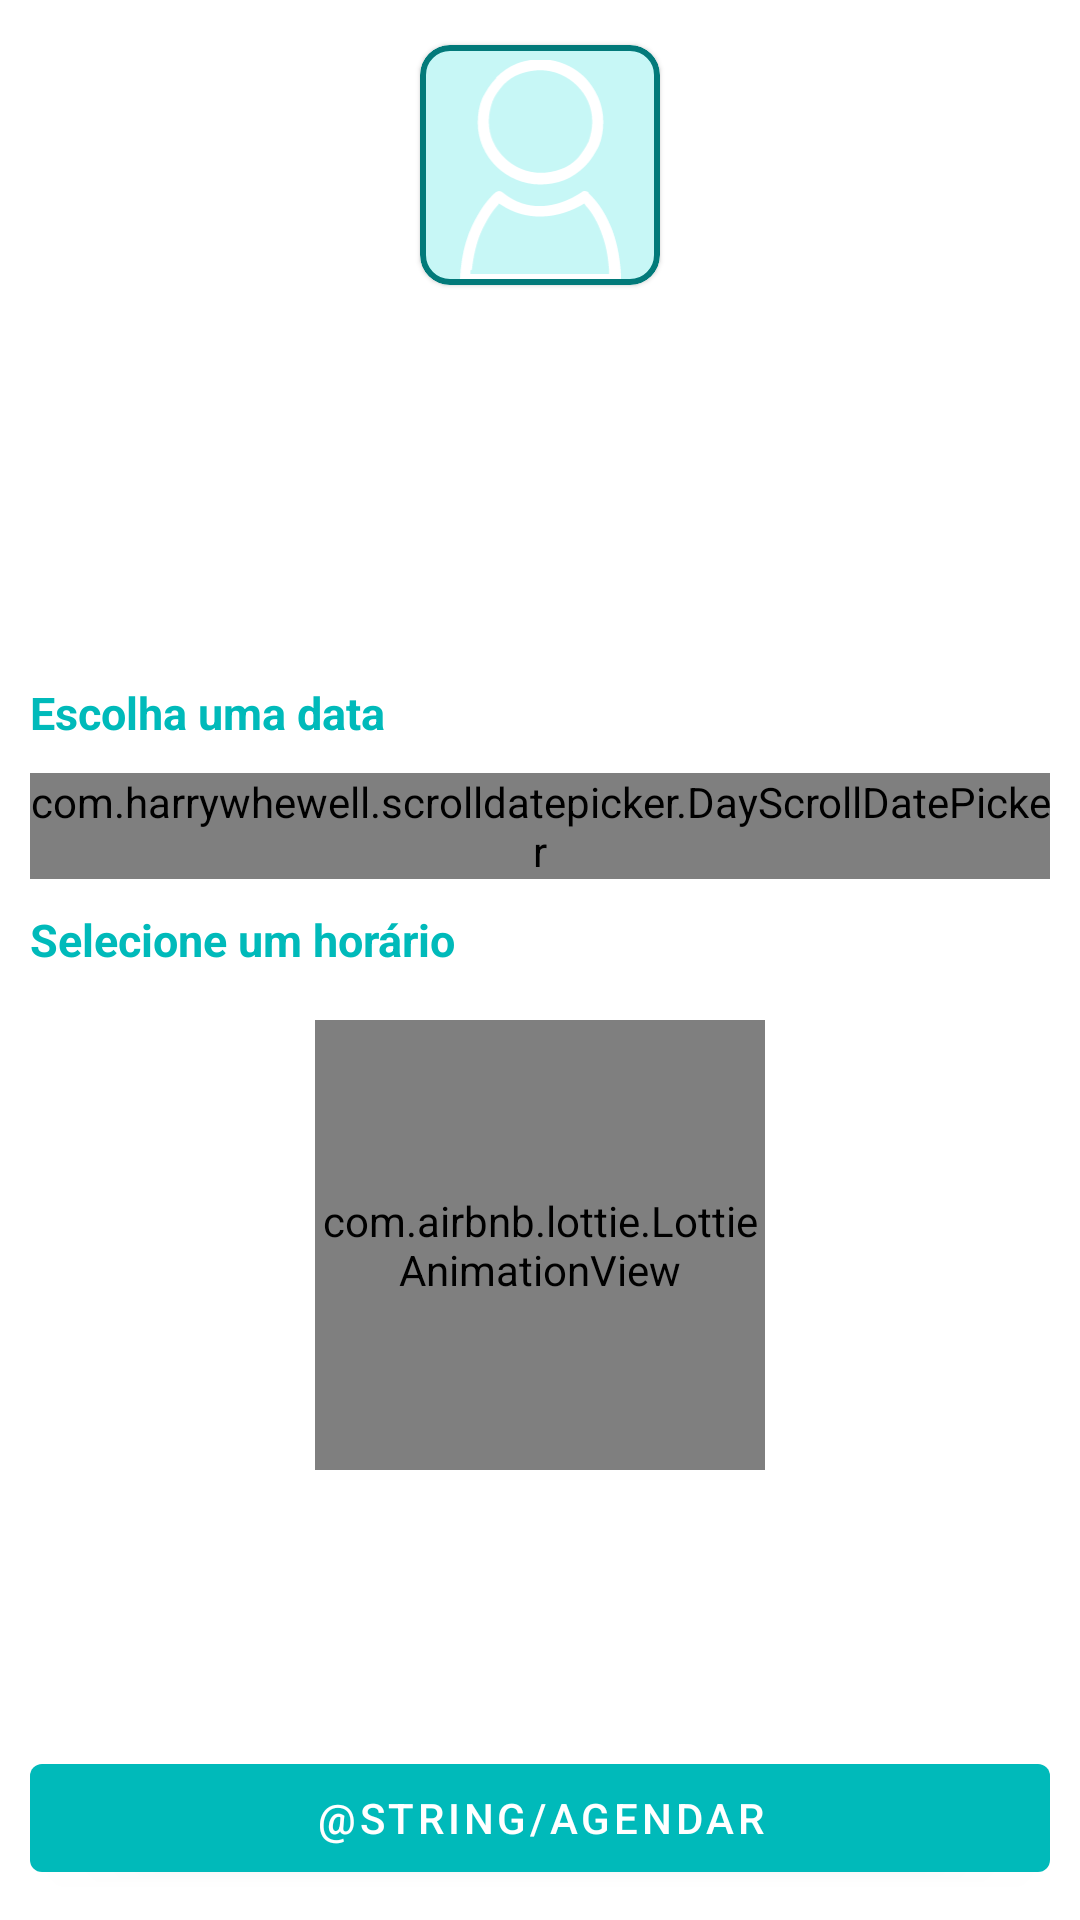

Screen size 1080×1920. Icon name, then its center in pixels as (x=x, y=y):
profile: (x=540, y=172)
